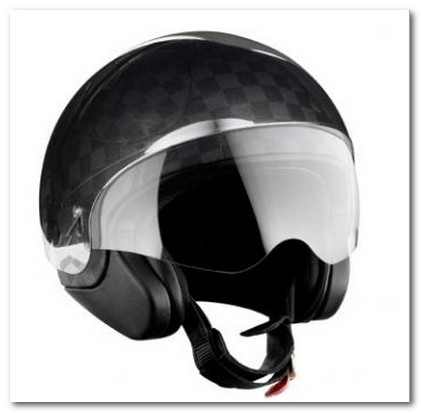helmet: (34, 59, 364, 305)
